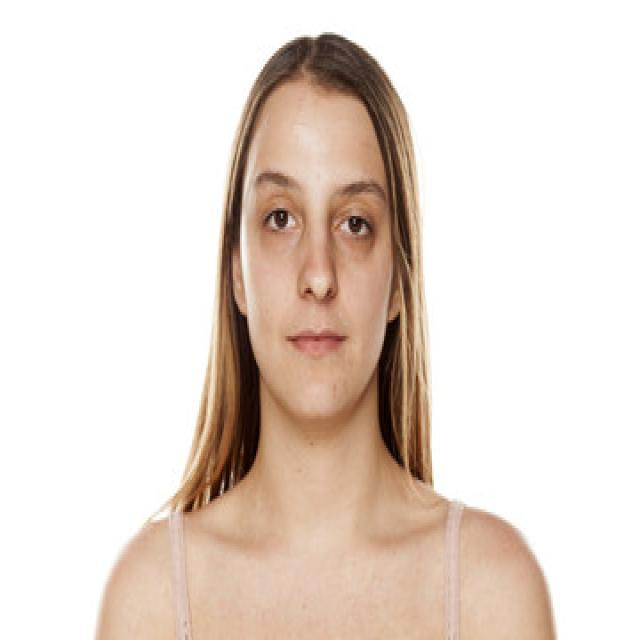Eyebags: (332, 232, 374, 261), (263, 230, 300, 259)
